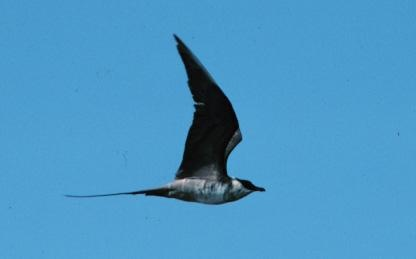bird: (62, 34, 267, 206)
